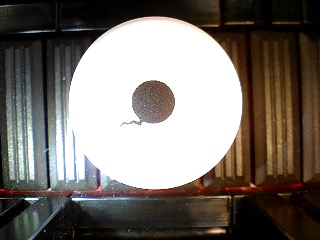CRACK: (68, 16, 243, 190)
